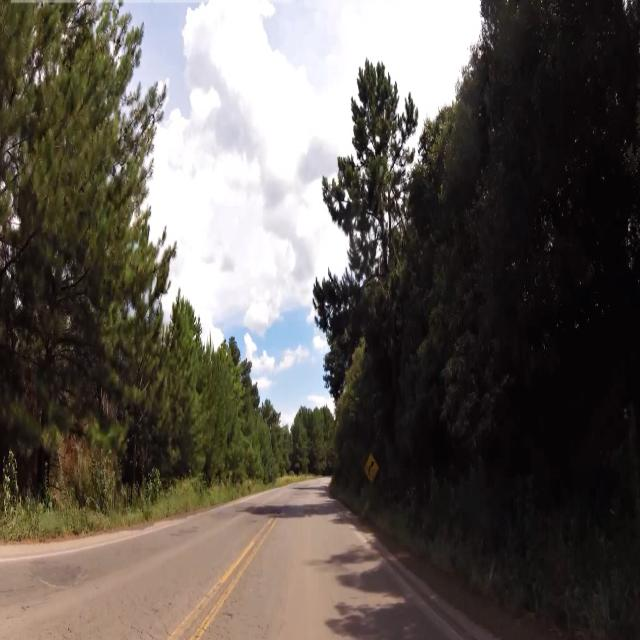A-2b: (364, 453, 381, 487)
